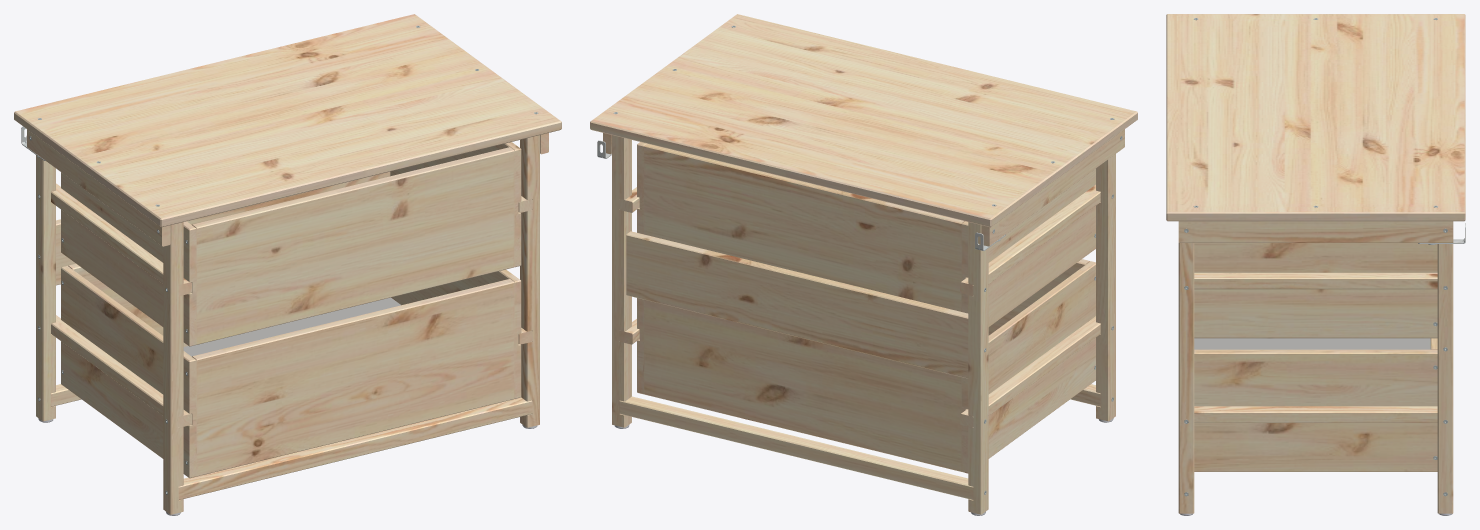
The picture shows the model from 3 angles, left to right: view 1: azimuth 30°, elevation 25°; view 2: azimuth 150°, elevation 25°; view 3: azimuth 270°, elevation 25°; orthographic projection.
Parts seen in each view (by area): view 1: ASY_ART_90610799_S01_NV01; view 2: ASY_ART_90610799_S01_NV01; view 3: ASY_ART_90610799_S01_NV01.
Boxes of the visible parts, <box> form: ASY_ART_90610799_S01_NV01: <box>14,14,561,515</box>; ASY_ART_90610799_S01_NV01: <box>590,14,1137,515</box>; ASY_ART_90610799_S01_NV01: <box>1166,14,1465,515</box>.
Size of the model in its own units: 0.755 by 0.5515 by 0.48.
1 material, 1 textured.
